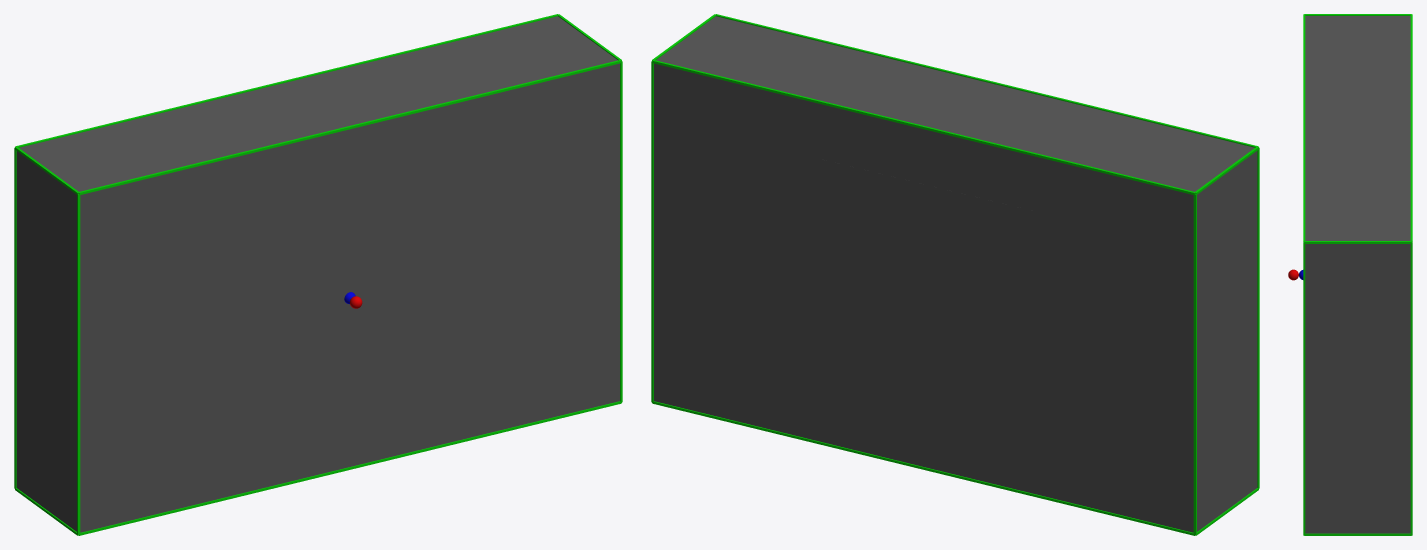
3 views of the same model, side by side, from view 1: azimuth 30°, elevation 25°; view 2: azimuth 150°, elevation 25°; view 3: azimuth 270°, elevation 25° (orthographic). The views are drawn at different scales.
Size of the model in its own units: 5.02 by 3.02 by 1.16.
